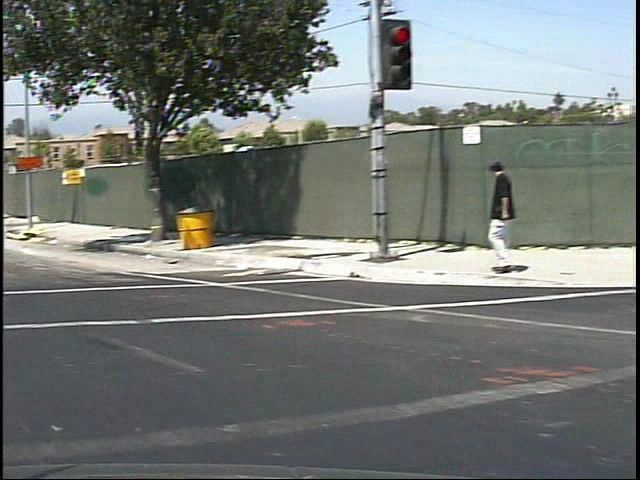person: (465, 153, 518, 287)
